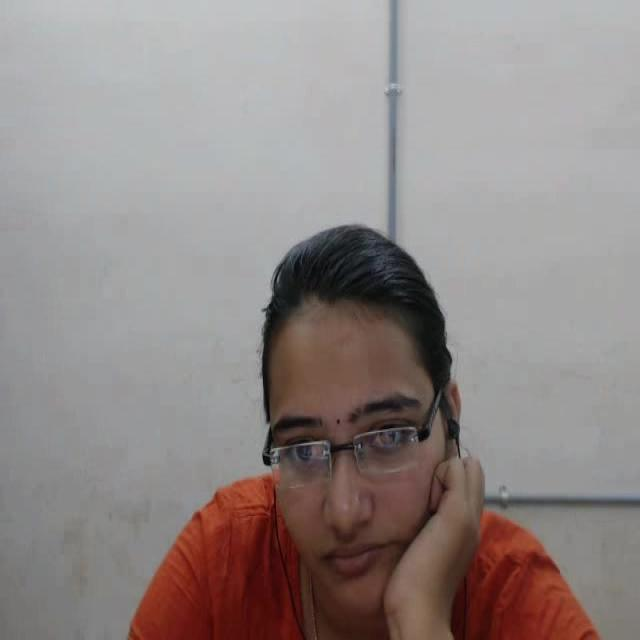Bored: (234, 217, 485, 620)
